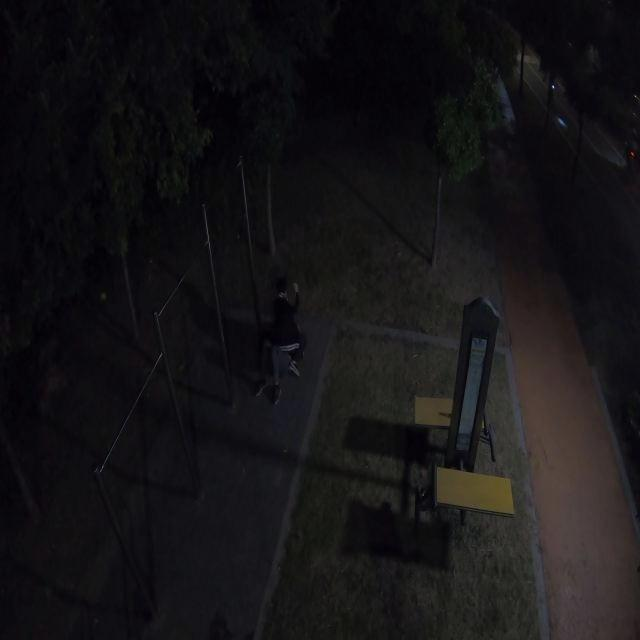fight: (250, 271, 304, 407)
